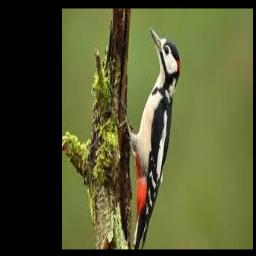Woodpecker: (117, 26, 180, 249)
